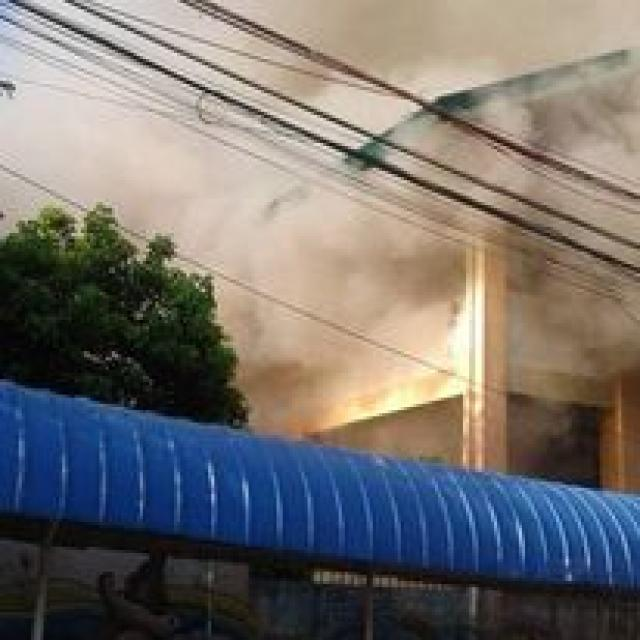Smoke: (61, 25, 628, 228), (228, 161, 444, 429), (475, 118, 640, 438)
